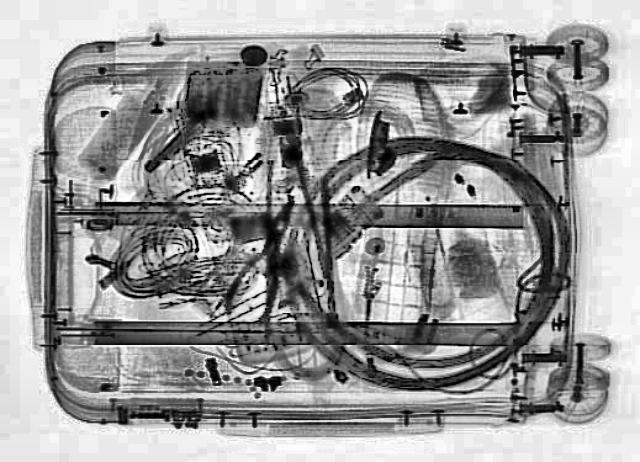Pliers: (213, 194, 314, 324)
